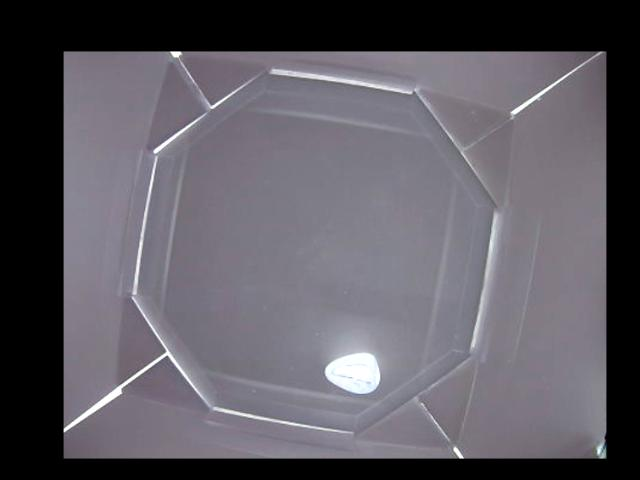Pebble: (327, 353, 382, 393)
